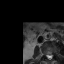CCS_normal: (48, 52, 50, 61)
LFS_severe_stenosis: (53, 51, 55, 57)
LLS_normal: (50, 52, 53, 59)
RFS_stenosis: (44, 51, 46, 57)
RLS_normal: (46, 52, 48, 60)
